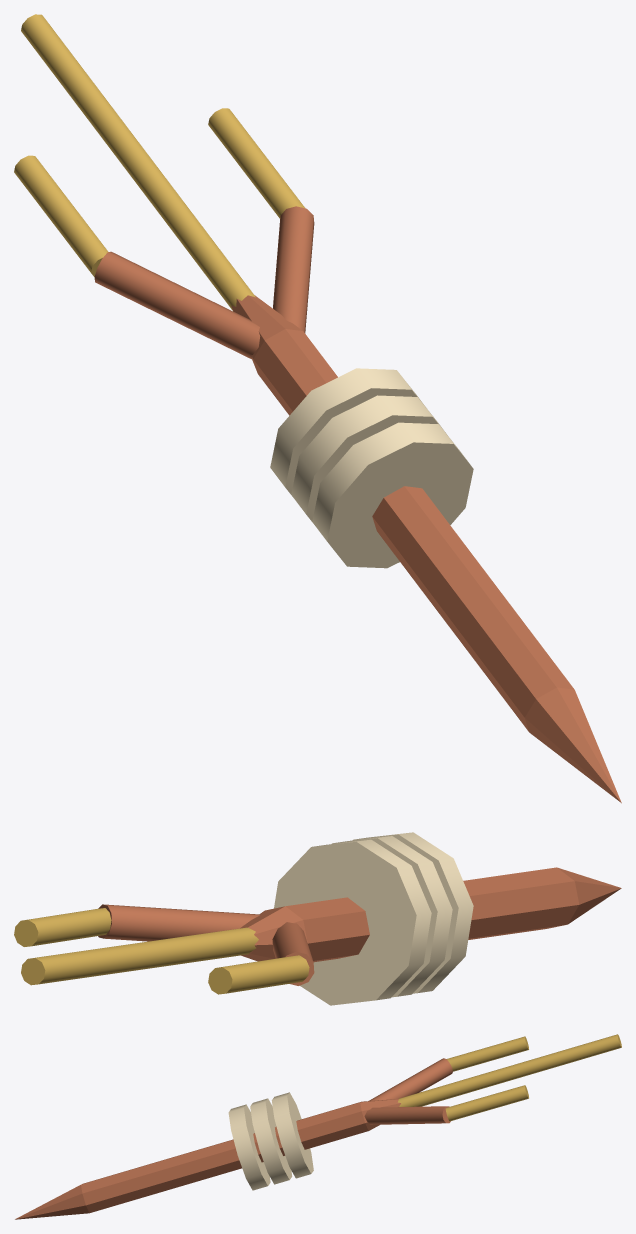
Rendered from lightning_rod.glb.
3 views of the same model, one above another, from view 1: azimuth 30°, elevation 25°; view 2: azimuth 150°, elevation 25°; view 3: azimuth 270°, elevation 25° (orthographic). The views are drawn at different scales.
Visible parts, largest first — view 1: Merged; view 2: Merged; view 3: Merged.
Part boxes in pixels (x1,y1,x2,y2): Merged: [14, 14, 621, 803]; Merged: [14, 832, 621, 1005]; Merged: [15, 1034, 621, 1219].
Bounding box in the file's own units: 0.1196 × 0.1869 × 0.5569.
